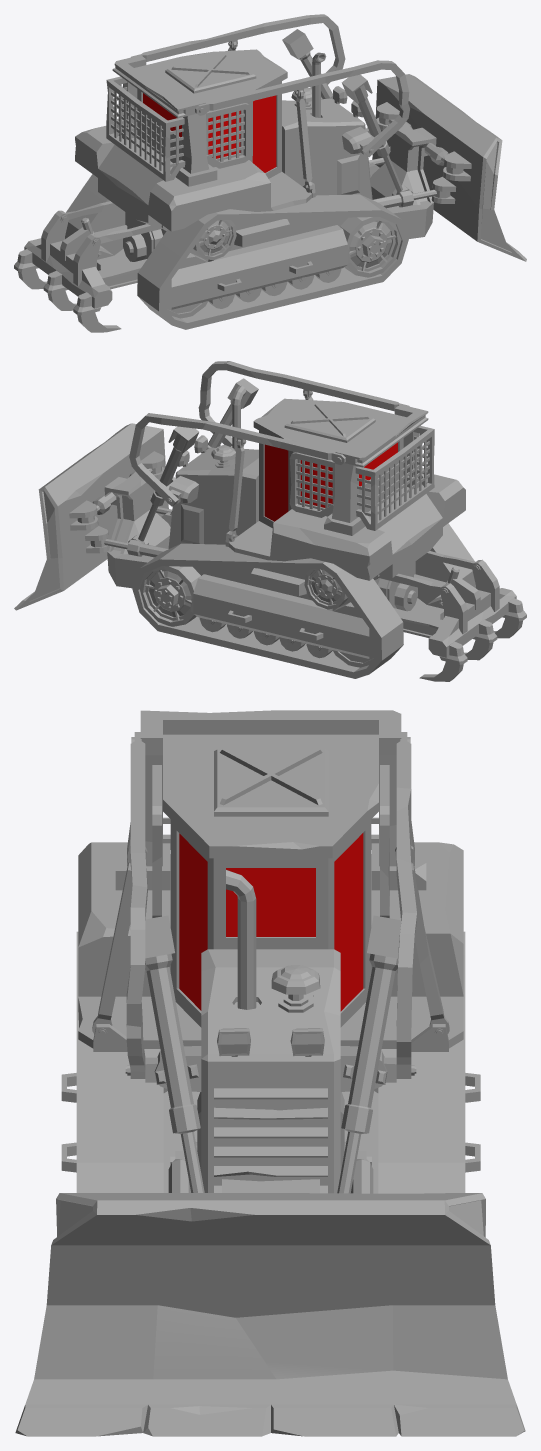
The model's file is SK_Veh_Bulldozer_01.fbx.
3 renders of one model, top to bottom at view 1: azimuth 30°, elevation 25°; view 2: azimuth 150°, elevation 25°; view 3: azimuth 270°, elevation 25°, orthographic. The views are drawn at different scales.
Parts seen in each view (by area): view 1: SK_Veh_Bulldozer_01, SK_Veh_Bulldozer_01_Blade, SK_Veh_Bulldozer_01_Track_r, SK_Veh_Bulldozer_01_Track_Wheel_fr, SK_Veh_Bulldozer_01_Glass, SK_Veh_Bulldozer_01_Track_l, SK_Veh_Bulldozer_01_Track_Wheel_mr, SK_Veh_Bulldozer_01_Track_Wheel_rr; view 2: SK_Veh_Bulldozer_01, SK_Veh_Bulldozer_01_Blade, SK_Veh_Bulldozer_01_Track_l, SK_Veh_Bulldozer_01_Track_Wheel_fl, SK_Veh_Bulldozer_01_Glass, SK_Veh_Bulldozer_01_Track_r, SK_Veh_Bulldozer_01_Track_Wheel_ml, SK_Veh_Bulldozer_01_Track_Wheel_rl; view 3: SK_Veh_Bulldozer_01, SK_Veh_Bulldozer_01_Blade, SK_Veh_Bulldozer_01_Glass, SK_Veh_Bulldozer_01_Track_l, SK_Veh_Bulldozer_01_Track_r.
Part boxes in pixels (x1,y1,x2,y2): SK_Veh_Bulldozer_01: [14, 14, 409, 332]; SK_Veh_Bulldozer_01_Blade: [368, 74, 526, 261]; SK_Veh_Bulldozer_01_Track_r: [137, 194, 408, 329]; SK_Veh_Bulldozer_01_Track_Wheel_fr: [340, 217, 401, 277]; SK_Veh_Bulldozer_01_Glass: [143, 93, 276, 172]; SK_Veh_Bulldozer_01_Track_l: [65, 174, 133, 262]; SK_Veh_Bulldozer_01_Track_Wheel_mr: [193, 220, 236, 260]; SK_Veh_Bulldozer_01_Track_Wheel_rr: [164, 253, 208, 318]; SK_Veh_Bulldozer_01: [129, 361, 526, 681]; SK_Veh_Bulldozer_01_Blade: [14, 423, 172, 610]; SK_Veh_Bulldozer_01_Track_l: [132, 543, 403, 678]; SK_Veh_Bulldozer_01_Track_Wheel_fl: [139, 566, 200, 626]; SK_Veh_Bulldozer_01_Glass: [264, 442, 397, 521]; SK_Veh_Bulldozer_01_Track_r: [408, 523, 475, 611]; SK_Veh_Bulldozer_01_Track_Wheel_ml: [304, 569, 347, 609]; SK_Veh_Bulldozer_01_Track_Wheel_rl: [332, 602, 376, 667]; SK_Veh_Bulldozer_01: [61, 710, 480, 1193]; SK_Veh_Bulldozer_01_Blade: [15, 1091, 525, 1436]; SK_Veh_Bulldozer_01_Glass: [179, 833, 363, 1011]; SK_Veh_Bulldozer_01_Track_l: [378, 931, 465, 1193]; SK_Veh_Bulldozer_01_Track_r: [76, 931, 163, 1192].
Size of the model in its own units: 863 by 409 by 455.
